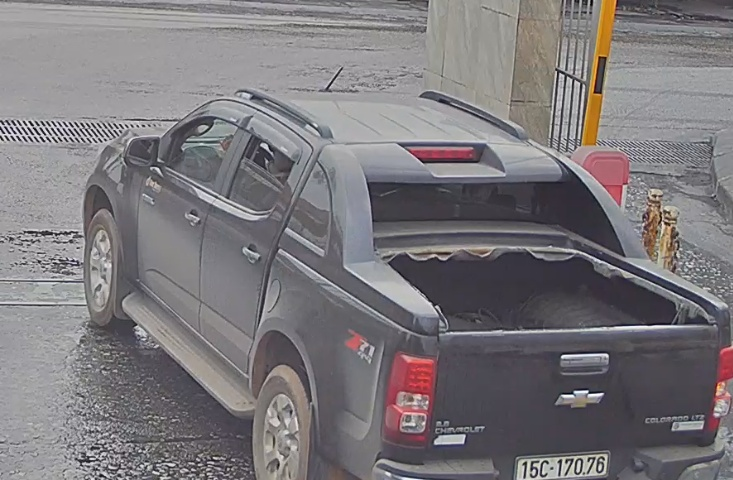vehicle plate: (512, 445, 616, 480)
